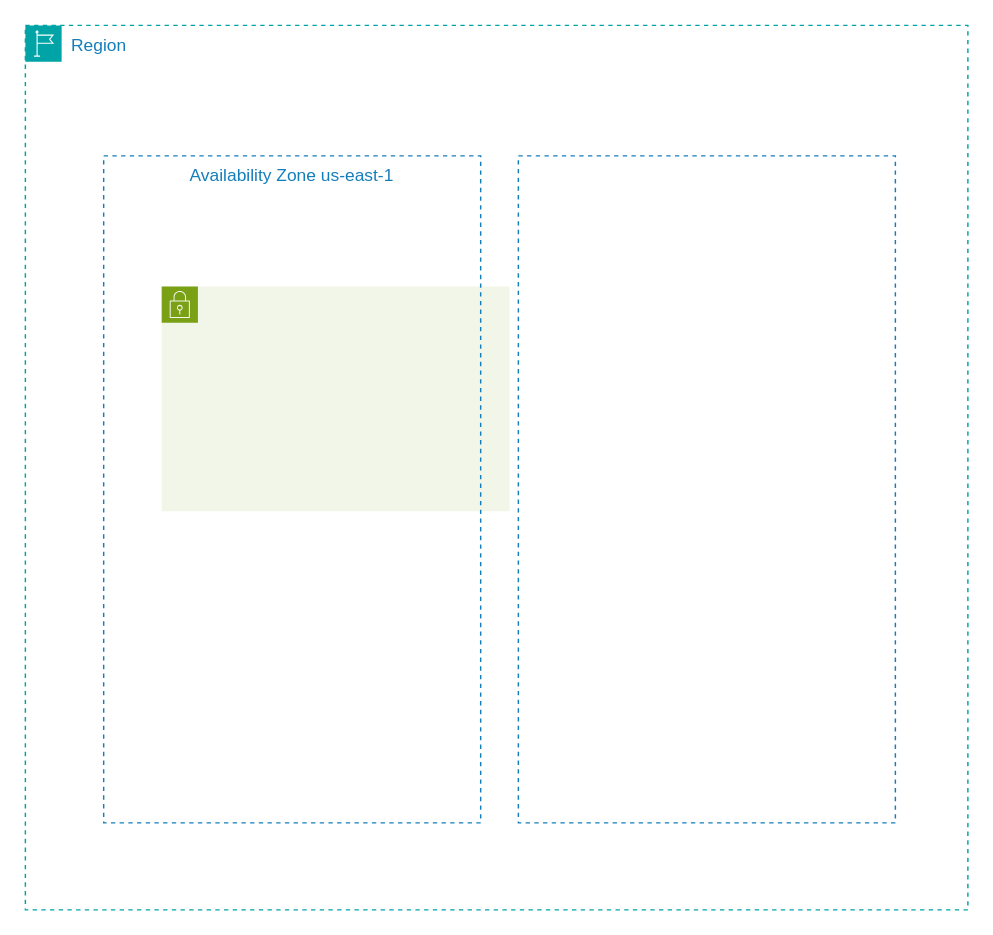
The diagram is 993 pixels wide and 935 high, and some of its shapes have lost their labels. The centre of each missing label's shape, as x and y in pixels:
"Availability Zone us-east-2" goes at (706,488).
"Public subnet" goes at (335,398).
